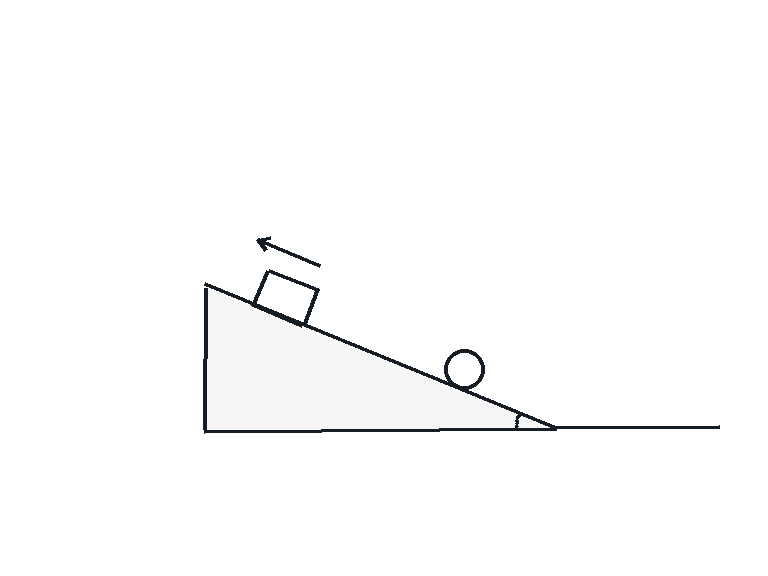ball: (442, 347, 486, 391)
block: (251, 267, 319, 328)
ramp: (203, 284, 558, 430)
